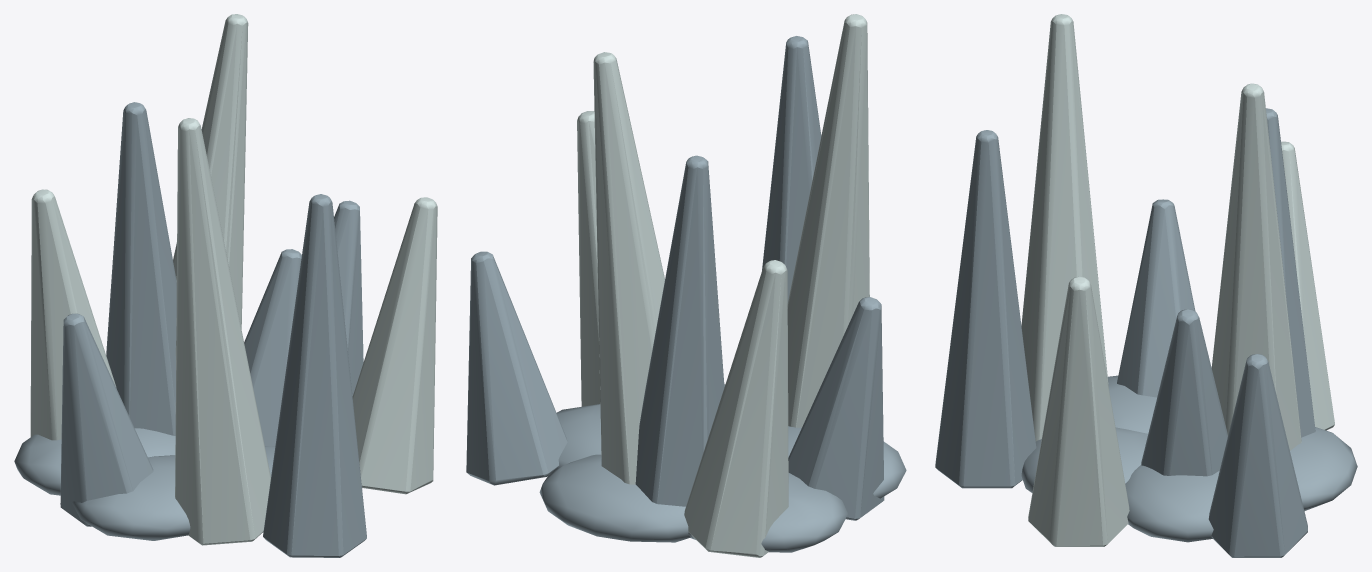
The model's file is bio_crystal_fan_01_far.glb.
3 views of the same model, side by side, from view 1: azimuth 30°, elevation 25°; view 2: azimuth 150°, elevation 25°; view 3: azimuth 270°, elevation 25° (orthographic). The views are drawn at different scales.
Parts seen in each view (by area): view 1: Reflecting mineral prism.007, Reflecting mineral prism.002, Reflecting mineral prism.005, Reflecting mineral prism.006, Reflecting mineral prism.004, Reflecting mineral prism.001, Mineral substrate, Reflecting mineral prism.003, Reflecting mineral prism, Reflecting mineral prism.008; view 2: Reflecting mineral prism.007, Reflecting mineral prism.003, Reflecting mineral prism.006, Reflecting mineral prism.001, Reflecting mineral prism.008, Mineral substrate, Reflecting mineral prism.004, Reflecting mineral prism.002, Reflecting mineral prism.005; view 3: Reflecting mineral prism.002, Reflecting mineral prism.007, Reflecting mineral prism.003, Reflecting mineral prism.005, Reflecting mineral prism.008, Mineral substrate, Reflecting mineral prism, Reflecting mineral prism.004, Reflecting mineral prism.001, Reflecting mineral prism.006.
Part boxes in pixels (<box>): Reflecting mineral prism.007: <box>175,118,270,545</box>; Reflecting mineral prism.002: <box>263,194,366,557</box>; Reflecting mineral prism.005: <box>352,197,437,494</box>; Reflecting mineral prism.006: <box>106,102,176,435</box>; Reflecting mineral prism.004: <box>60,313,153,526</box>; Reflecting mineral prism.001: <box>30,189,116,440</box>; Mineral substrate: <box>14,428,362,540</box>; Reflecting mineral prism.003: <box>173,14,248,359</box>; Reflecting mineral prism: <box>244,249,301,446</box>; Reflecting mineral prism.008: <box>334,200,363,395</box>; Reflecting mineral prism.007: <box>787,14,869,427</box>; Reflecting mineral prism.003: <box>593,52,664,484</box>; Reflecting mineral prism.006: <box>635,155,724,506</box>; Reflecting mineral prism.001: <box>684,260,788,557</box>; Reflecting mineral prism.008: <box>466,251,567,485</box>; Mineral substrate: <box>539,384,906,552</box>; Reflecting mineral prism.004: <box>788,297,884,520</box>; Reflecting mineral prism.002: <box>762,36,821,302</box>; Reflecting mineral prism.005: <box>577,111,600,406</box>; Reflecting mineral prism.002: <box>935,130,1036,488</box>; Reflecting mineral prism.007: <box>1021,14,1108,441</box>; Reflecting mineral prism.003: <box>1211,83,1301,450</box>; Reflecting mineral prism.005: <box>1028,276,1129,546</box>; Reflecting mineral prism.008: <box>1208,354,1307,557</box>; Mineral substrate: <box>1021,375,1357,542</box>; Reflecting mineral prism: <box>1141,309,1227,476</box>; Reflecting mineral prism.004: <box>1117,199,1195,397</box>; Reflecting mineral prism.001: <box>1281,141,1334,430</box>; Reflecting mineral prism.006: <box>1266,108,1315,437</box>.
Bounding box in the file's own units: 1.44 × 1.73 × 1.55.
